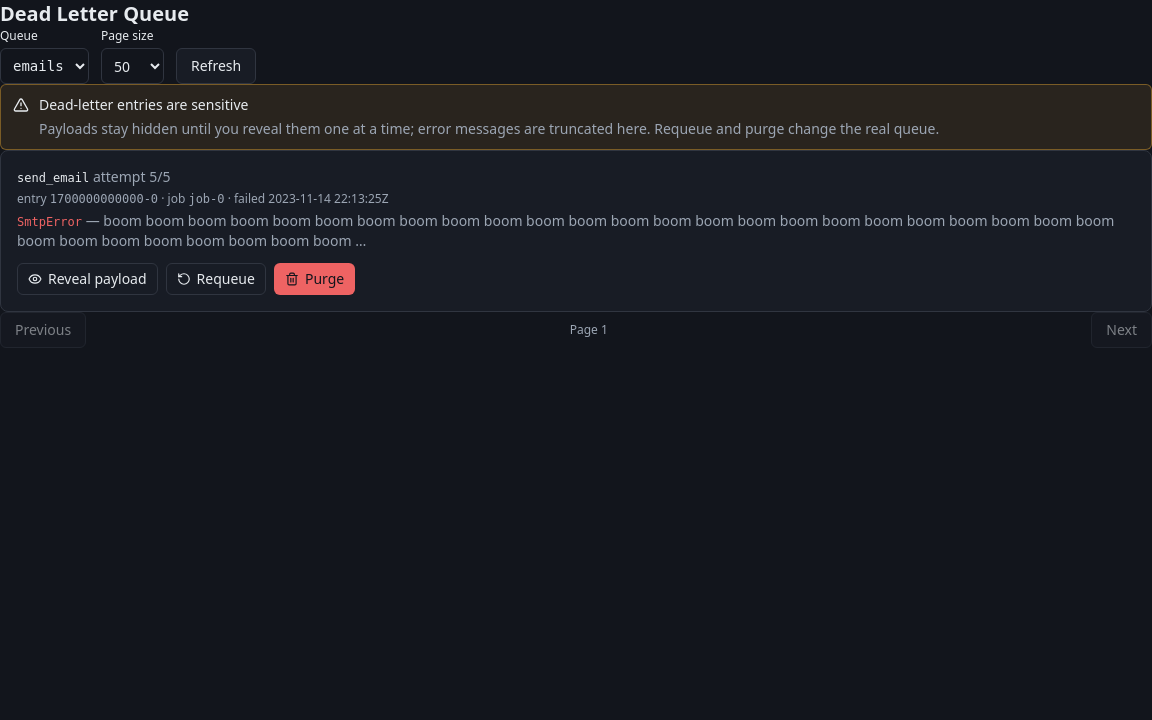
Test case: dead-letter queue › requeue explains the consequences, needs confirmation, and submits once
Expected: the text "job-0" is shown, [188,192,224,206]
Click the button "Requeue": (216, 279) [166,263,266,295]
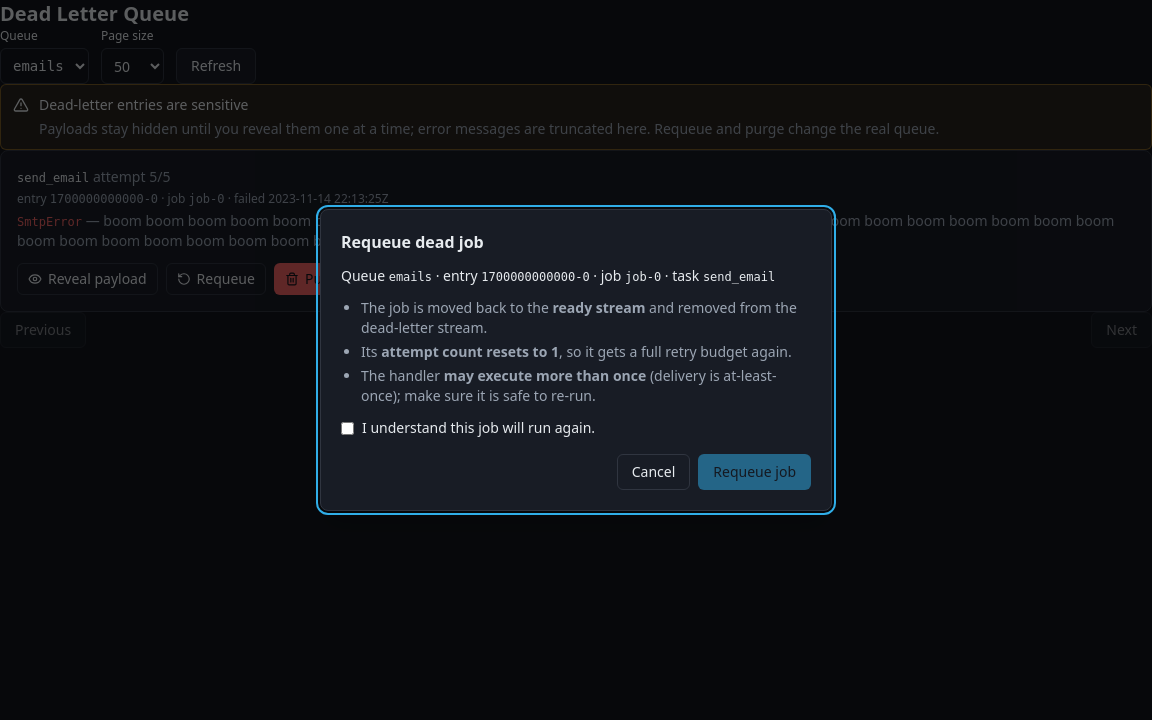
Now the dialog shows "attempt count resets to 1", box [381,342,559,361]
Now the dialog shows "may execute more than once", box [444,366,646,385]
Now the button "Requeue job" is disabled, box [698,454,811,490]
Click the checkbox: (348, 428) [341,422,354,435]
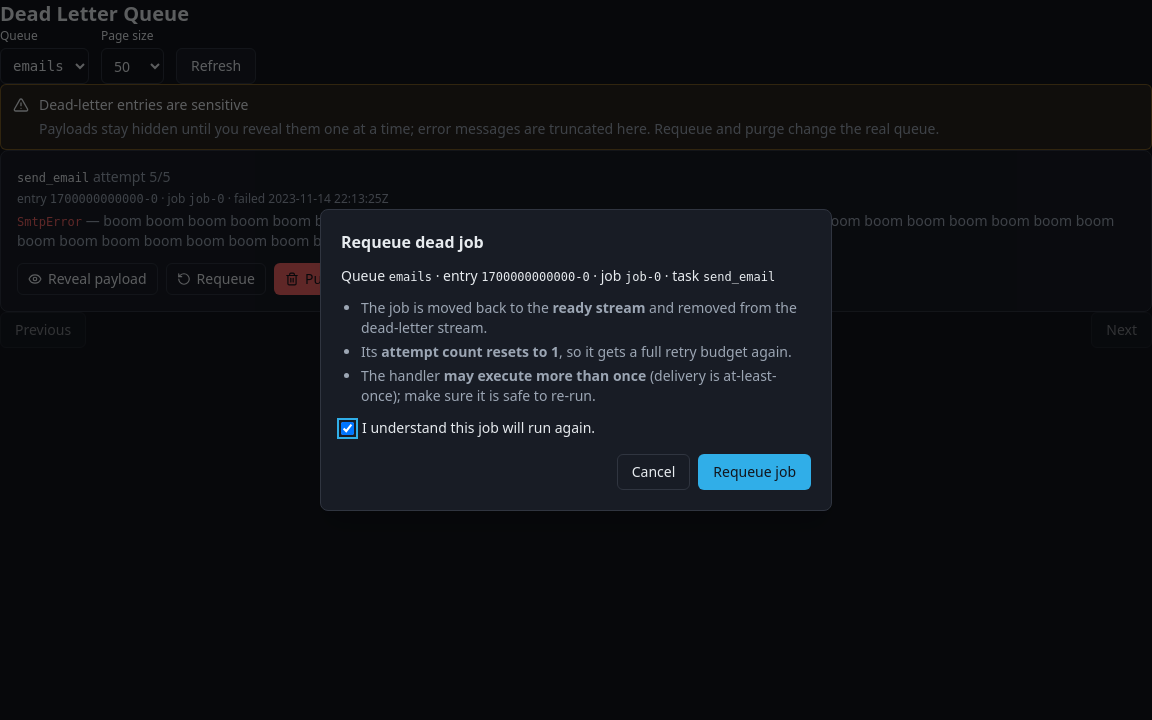
Click the button "Requeue job": (755, 472) [698,454,811,490]
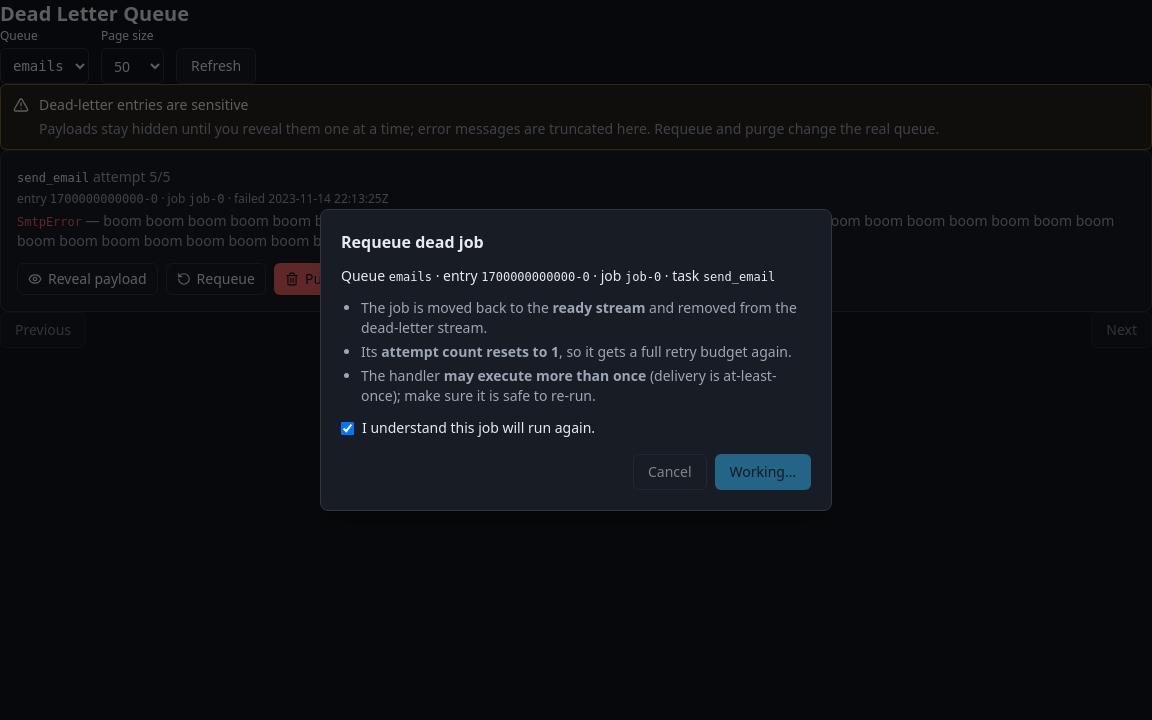
Click the button named "Requeue job": (763, 472) [715,454,811,490]
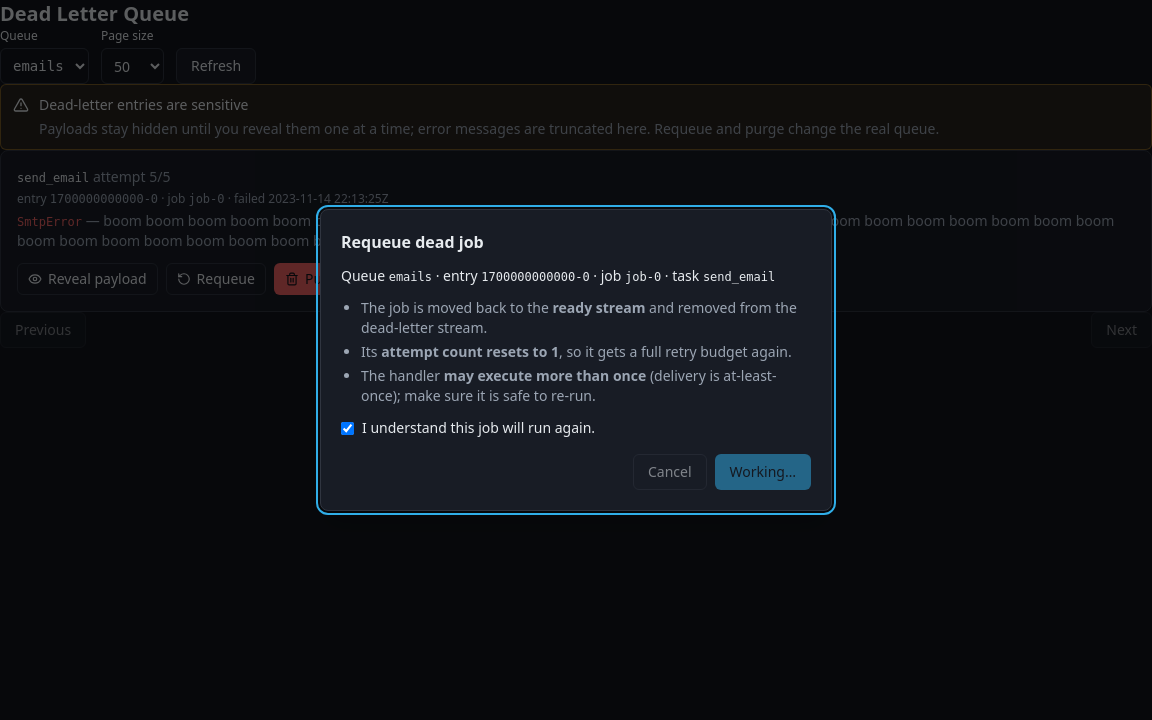
Click the button named "Requeue job": (763, 472) [715,454,811,490]
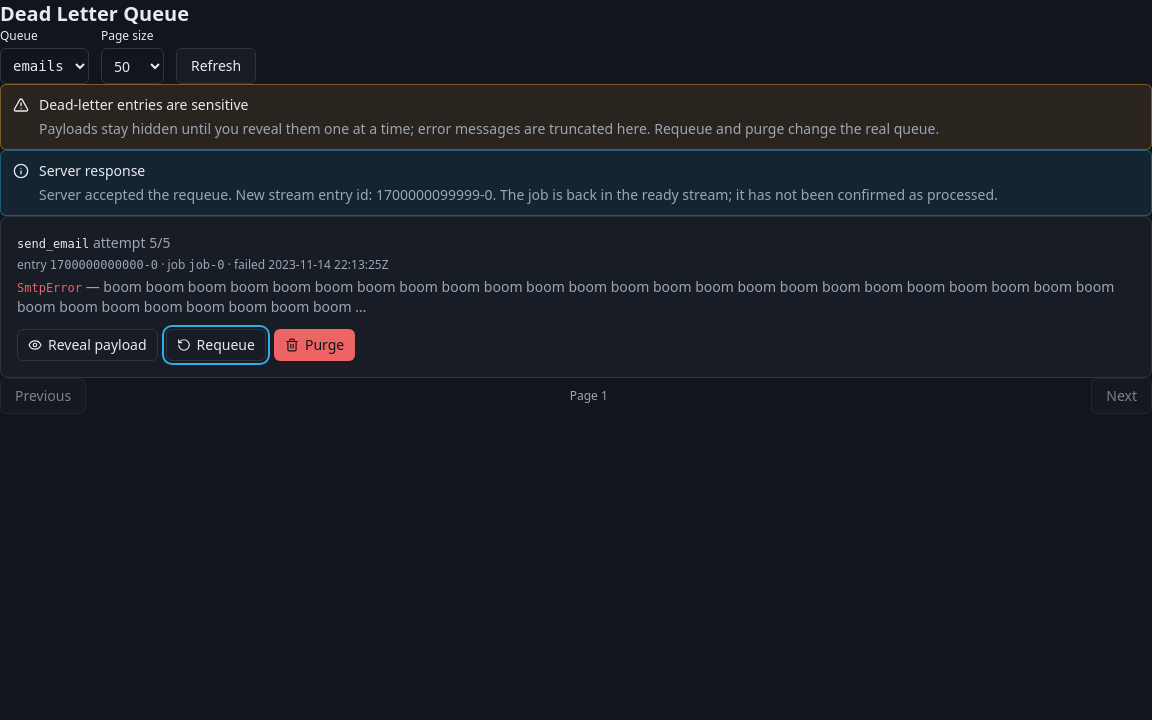
Now the text "not been confirmed as processed" is shown, box [39,185,998,204]
Now the dialog is gone
